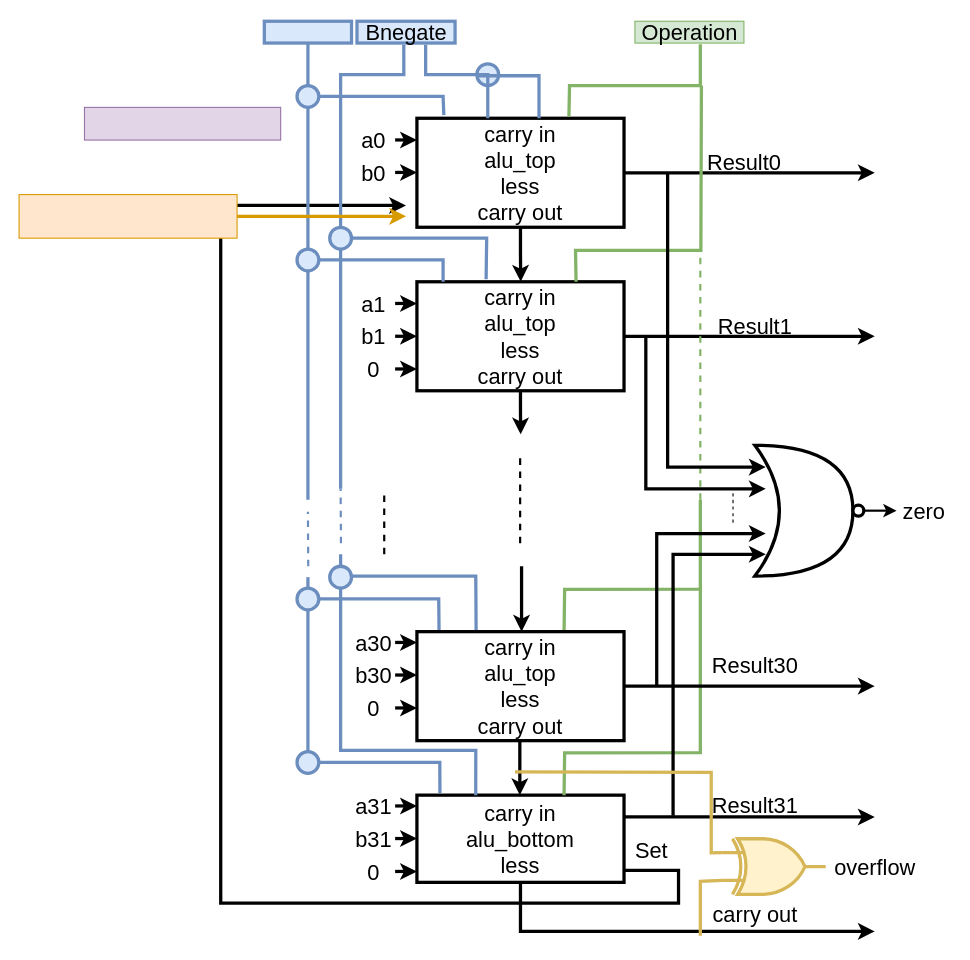
Some shapes in this 970 by 960 pixel diagram are drawn without their labels. Here are the shapes that lost their labels. From the top down, the centre of each, then its label:
[307,31]: Ainvert
[182,123]: 32-bits ALU
[127,215]: equal: (a[31:0]^b[31:0])?0:1
